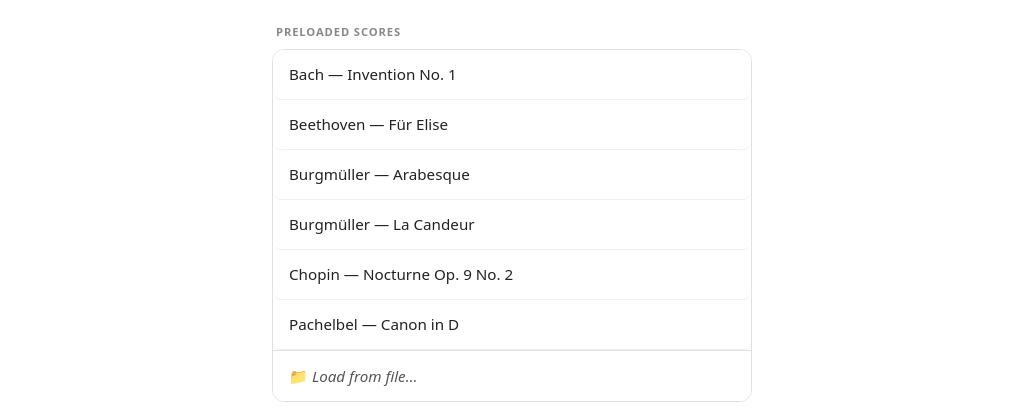
Test case: PlayScorePlugin — US1: Selection screen and Back button › transitions to player view after selecting a score
The width and height of the screenshot is (1024, 419).
Click the button "Bach — Invention No. 1".
click(373, 74)  # box [273,50,751,100]
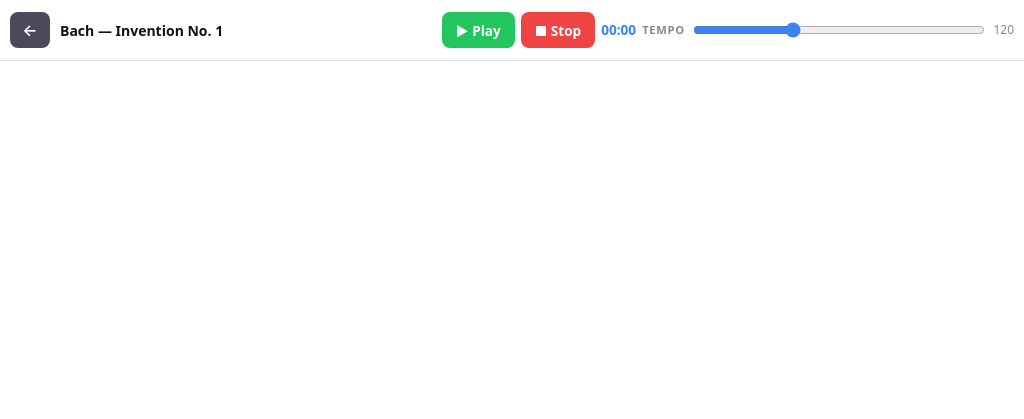
Expected: the button named "back" is shown, [10,12,50,48]
Expected: the list is gone
